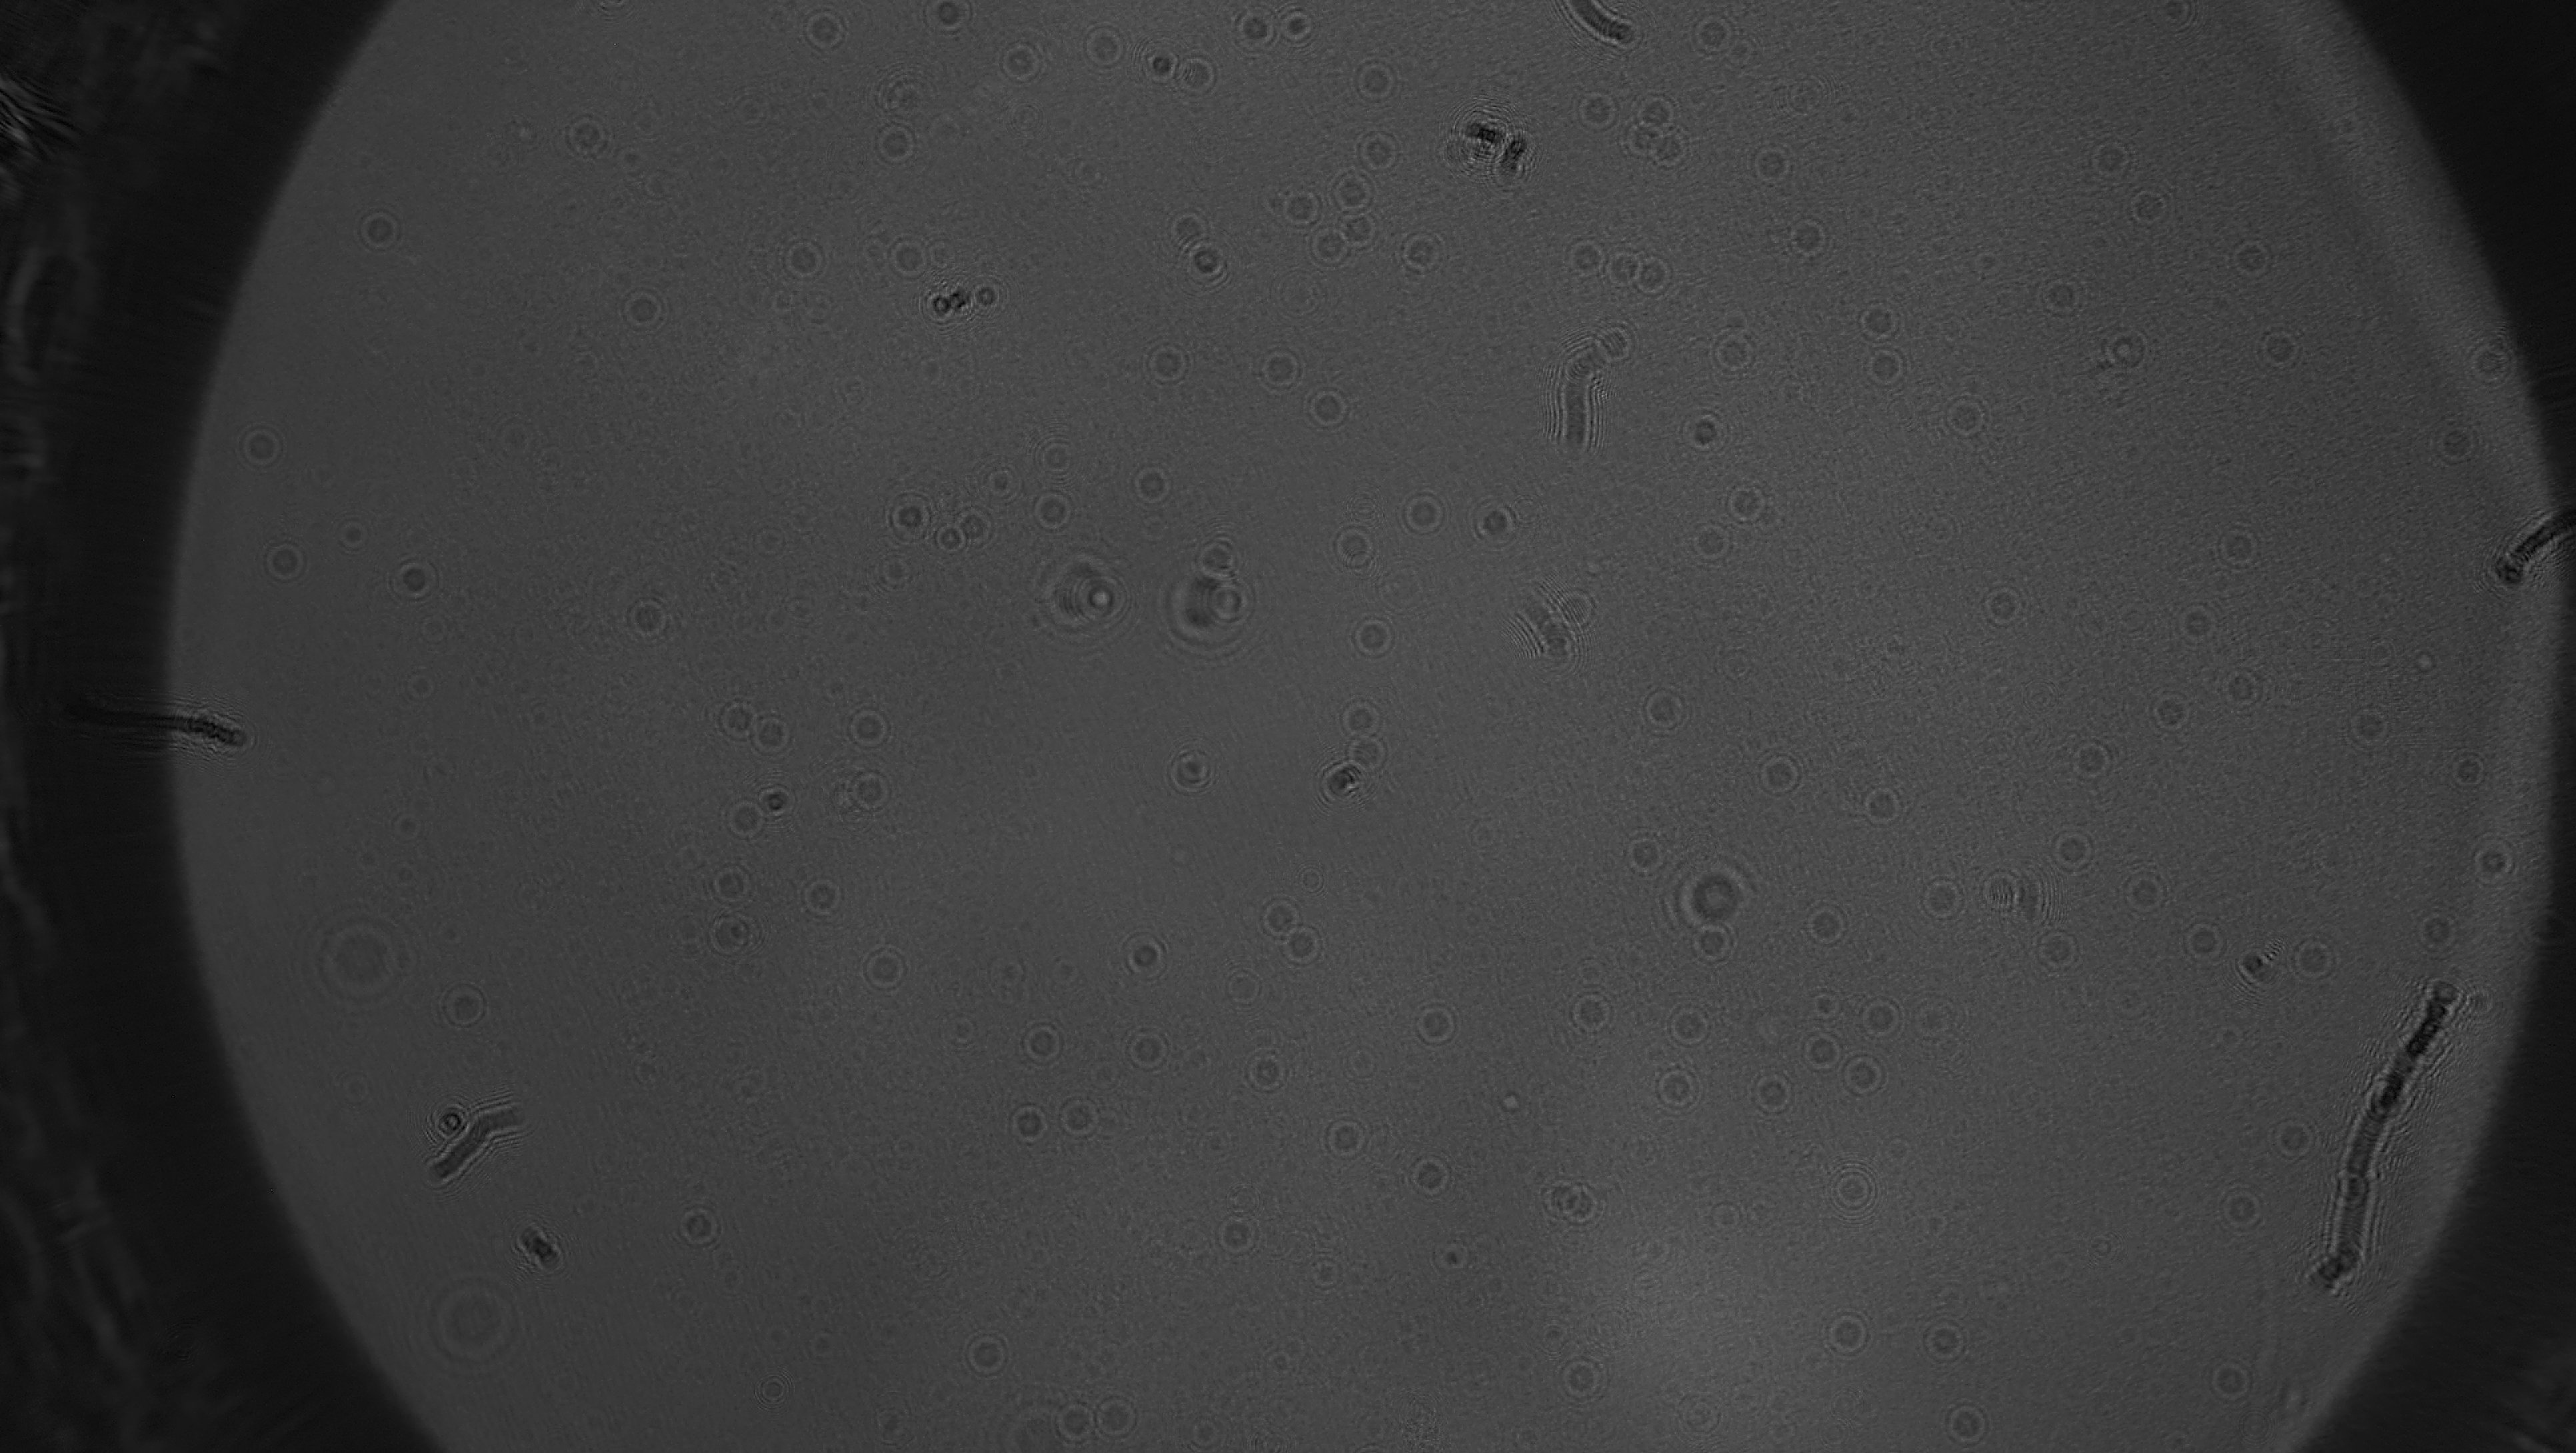bead: (879, 485, 945, 552), (2335, 694, 2401, 759), (998, 1090, 1062, 1157), (2196, 1350, 2263, 1412), (2162, 595, 2231, 655), (1644, 1057, 1707, 1120), (2259, 1104, 2323, 1168), (2204, 517, 2270, 579), (2112, 862, 2176, 924), (839, 757, 901, 821), (430, 973, 494, 1035), (1157, 742, 1223, 802), (1713, 473, 1778, 533), (1113, 926, 1175, 988), (1849, 288, 1911, 350), (2249, 317, 2311, 379), (2457, 333, 2519, 395), (1971, 858, 2033, 920), (1074, 16, 1138, 76), (382, 550, 446, 611), (2208, 1177, 2272, 1237), (1775, 209, 1840, 267), (1226, 0, 1286, 62), (230, 416, 292, 476), (619, 588, 679, 650), (1560, 982, 1621, 1044), (1750, 745, 1812, 805), (2040, 821, 2102, 881), (1550, 1350, 1612, 1411), (1971, 577, 2033, 637), (1739, 1060, 1803, 1119), (1389, 225, 1454, 281), (1424, 126, 1491, 181), (1851, 988, 1911, 1048), (1704, 324, 1764, 384), (1583, 313, 1644, 373), (1911, 869, 1971, 929), (943, 496, 1003, 556), (862, 113, 924, 172), (1343, 53, 1405, 111), (1269, 181, 1330, 239), (955, 1326, 1017, 1384), (1398, 1147, 1460, 1205), (1299, 214, 1361, 273), (1631, 680, 1693, 738), (2210, 658, 2272, 717), (2176, 910, 2235, 972), (1819, 1303, 1877, 1365), (1913, 1313, 1974, 1372), (1315, 1110, 1378, 1166), (2282, 931, 2346, 988), (1564, 85, 1629, 140), (794, 0, 855, 58), (773, 228, 832, 288), (612, 280, 672, 338), (349, 200, 409, 258), (1251, 890, 1311, 949), (1272, 919, 1332, 977), (1405, 995, 1465, 1053), (1683, 7, 1743, 65), (715, 789, 773, 850), (2026, 922, 2086, 980), (1854, 775, 1913, 835), (1168, 46, 1226, 106), (1023, 481, 1083, 540), (1115, 1021, 1177, 1078), (1136, 334, 1198, 391), (837, 699, 899, 756), (1679, 513, 1741, 570), (1854, 338, 1916, 395), (1934, 386, 1996, 442), (1936, 1395, 1997, 1451), (1120, 455, 1182, 511), (1233, 1042, 1297, 1097), (1332, 727, 1396, 782), (557, 106, 616, 165), (671, 1198, 729, 1257), (1251, 342, 1309, 400), (1394, 483, 1453, 542), (741, 706, 800, 765), (1799, 897, 1858, 956), (2063, 733, 2121, 791), (711, 690, 770, 749), (1348, 124, 1408, 181), (1157, 200, 1217, 257), (1012, 1016, 1072, 1072), (2116, 175, 2176, 232), (2408, 899, 2465, 959), (1831, 1046, 1893, 1101), (2079, 133, 2141, 188), (1736, 138, 1801, 189), (991, 34, 1049, 90), (1322, 165, 1380, 221), (2427, 412, 2486, 469), (1086, 1388, 1145, 1444), (1047, 1395, 1106, 1451), (255, 536, 315, 591), (1343, 609, 1403, 664), (855, 943, 915, 998), (1545, 580, 1605, 635), (2141, 685, 2201, 740), (1557, 230, 1619, 283), (2029, 271, 2091, 324), (1332, 690, 1389, 747), (793, 869, 849, 926), (1325, 515, 1384, 570), (1661, 993, 1716, 1051), (883, 227, 936, 287), (1629, 87, 1690, 140), (1327, 202, 1389, 253), (1053, 1088, 1109, 1143), (1644, 119, 1698, 175), (1299, 382, 1357, 435), (1624, 246, 1683, 299), (1792, 1023, 1852, 1074), (1617, 825, 1672, 880), (1534, 1166, 1587, 1223), (2224, 234, 2281, 287), (702, 858, 761, 910), (1681, 919, 1739, 970), (1201, 575, 1260, 627), (1550, 1182, 1612, 1230), (1596, 237, 1647, 294), (1205, 1211, 1267, 1257), (911, 0, 980, 41), (2442, 745, 2495, 796), (1615, 117, 1672, 165)
